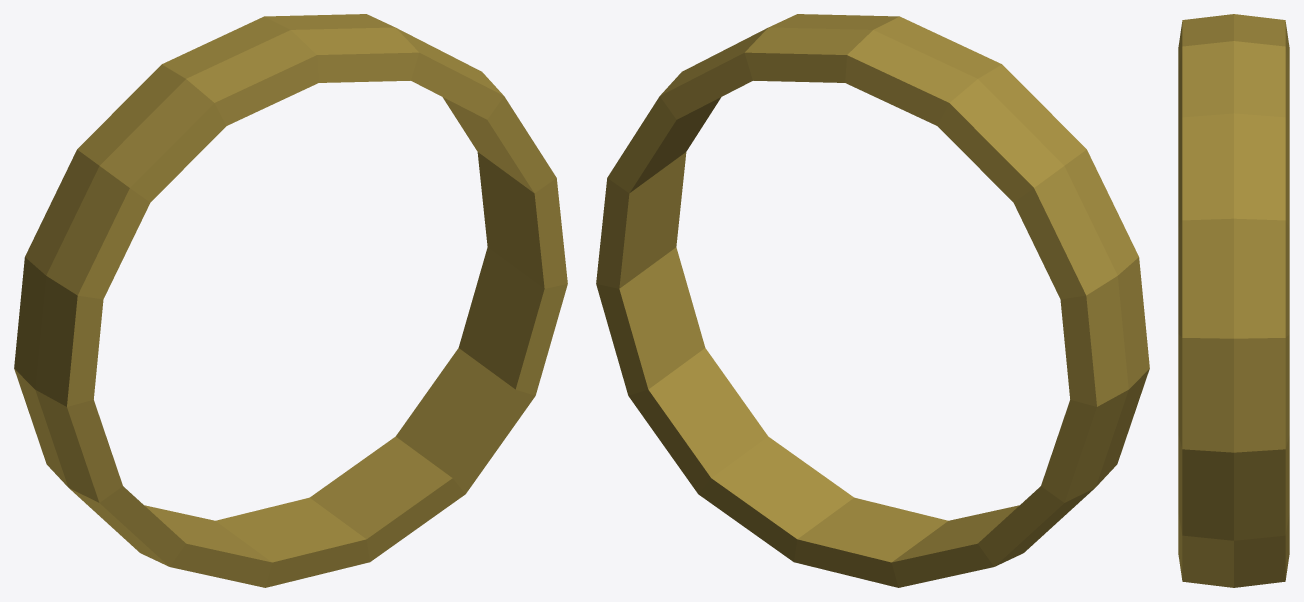
The model's file is Ring1.glb.
The picture shows the model from 3 angles, left to right: view 1: azimuth 30°, elevation 25°; view 2: azimuth 150°, elevation 25°; view 3: azimuth 270°, elevation 25°; orthographic projection. The views are drawn at different scales.
Visible parts, largest first — view 1: Ring1; view 2: Ring1; view 3: Ring1.
Boxes of the visible parts, x1,y1,x2,y2 form: Ring1: (14, 14, 567, 587); Ring1: (596, 14, 1149, 587); Ring1: (1178, 14, 1289, 587).
Bounding box in the file's own units: 0.6635 × 0.6584 × 0.128.
